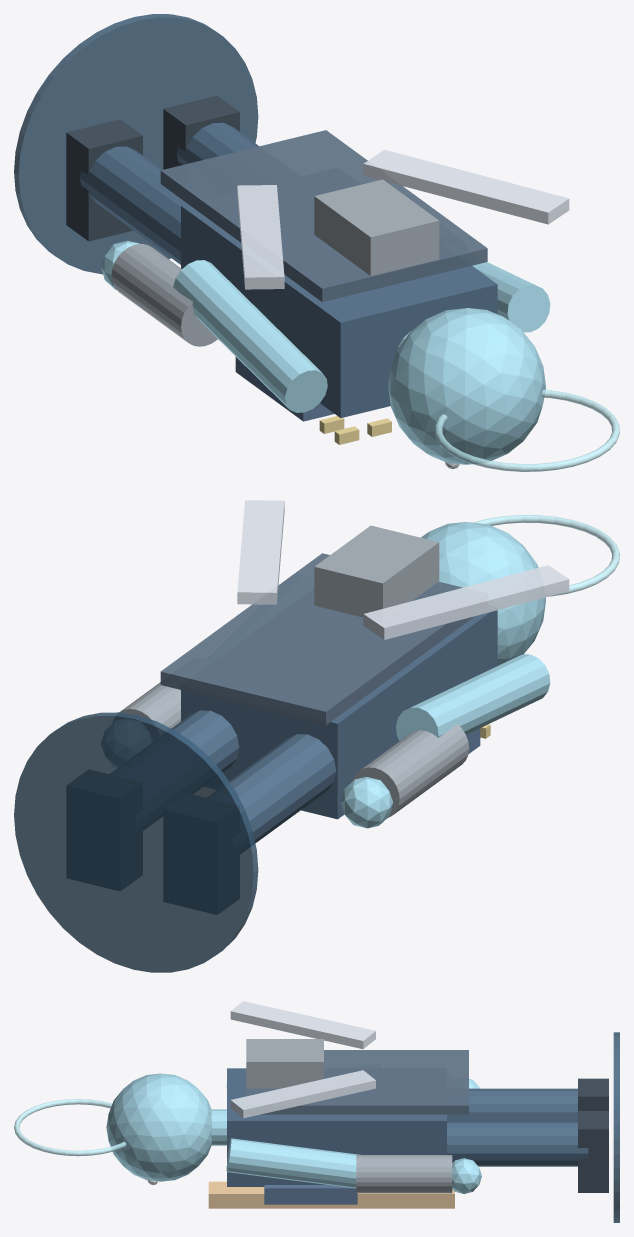
Rendered from SW_NPC_034_isk_tidecrown.glb.
3 renders of one model, top to bottom at view 1: azimuth 30°, elevation 25°; view 2: azimuth 150°, elevation 25°; view 3: azimuth 270°, elevation 25°, orthographic. The views are drawn at different scales.
Visible parts, largest first — view 1: round_base_plate, torso_uniform, head, storm_cloak, left_upper_arm, wingpack_core, left_leg, right_wing_rig, left_forearm_gauntlet, left_boot, left_wing_rig, right_boot (+4 smaller); view 2: round_base_plate, storm_cloak, torso_uniform, wingpack_core, head, left_upper_arm, left_leg, left_wing_rig, left_forearm_gauntlet, right_wing_rig, right_leg, left_hand (+2 smaller); view 3: torso_uniform, head, storm_cloak, right_leg, right_upper_arm, left_leg, right_forearm_gauntlet, wingpack_core, rank_sash, right_wing_rig, left_wing_rig, right_boot (+6 smaller).
Boxes of the visible parts, <box> form: round_base_plate: <box>14,14,258,274</box>; torso_uniform: <box>181,204,497,417</box>; head: <box>388,308,545,464</box>; storm_cloak: <box>160,130,487,301</box>; left_upper_arm: <box>173,260,327,412</box>; wingpack_core: <box>314,179,439,275</box>; left_leg: <box>80,146,187,264</box>; right_wing_rig: <box>363,149,569,224</box>; left_forearm_gauntlet: <box>111,243,217,346</box>; left_boot: <box>66,119,142,241</box>; left_wing_rig: <box>237,185,284,289</box>; right_boot: <box>163,95,239,169</box>; round_base_plate: <box>14,712,258,972</box>; storm_cloak: <box>160,553,474,725</box>; torso_uniform: <box>181,610,497,819</box>; wingpack_core: <box>314,525,439,617</box>; head: <box>421,522,545,665</box>; left_upper_arm: <box>396,654,550,740</box>; left_leg: <box>229,734,336,843</box>; left_wing_rig: <box>363,565,569,639</box>; left_forearm_gauntlet: <box>352,724,469,818</box>; right_wing_rig: <box>237,500,284,604</box>; right_leg: <box>172,710,239,772</box>; left_hand: <box>340,777,393,828</box>; torso_uniform: <box>227,1068,446,1186</box>; head: <box>106,1073,211,1181</box>; storm_cloak: <box>246,1050,468,1114</box>; right_leg: <box>447,1121,588,1166</box>; right_upper_arm: <box>226,1138,360,1188</box>; left_leg: <box>447,1088,577,1121</box>; right_forearm_gauntlet: <box>356,1155,452,1193</box>; wingpack_core: <box>246,1039,323,1088</box>; rank_sash: <box>208,1181,454,1208</box>; right_wing_rig: <box>230,1070,375,1118</box>; left_wing_rig: <box>230,1001,375,1048</box>; right_boot: <box>578,1111,608,1192</box>.
Size of the model in its own units: 1.05 by 0.7728 by 2.46.
